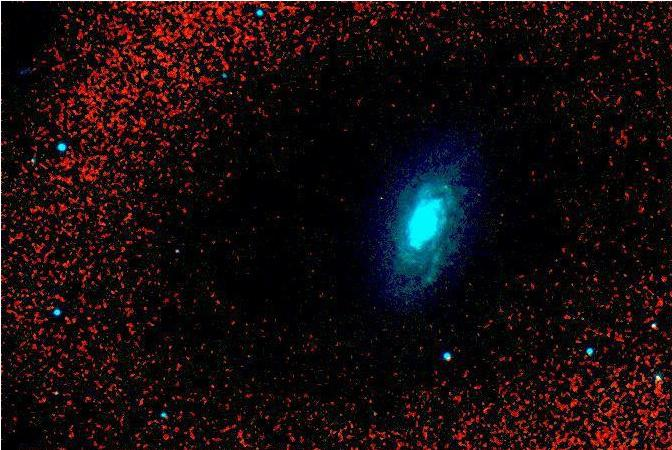star: (431, 173, 461, 203)
